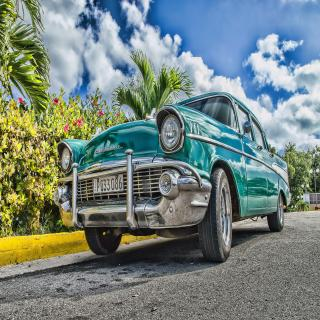Normal_vehicle: (58, 89, 294, 263)
